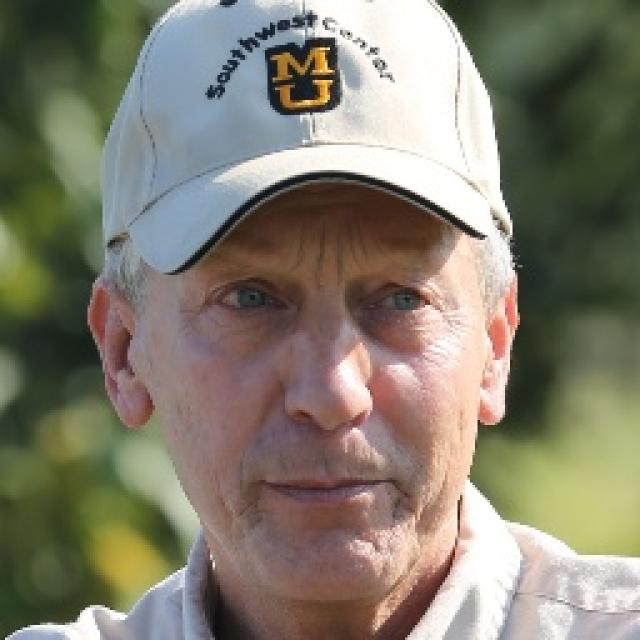earlobe: (116, 374, 156, 430), (476, 371, 508, 426)
eye: (214, 280, 285, 310), (371, 286, 434, 316)
nose: (282, 399, 379, 479)
wholeear: (86, 276, 156, 431), (476, 270, 520, 426)
